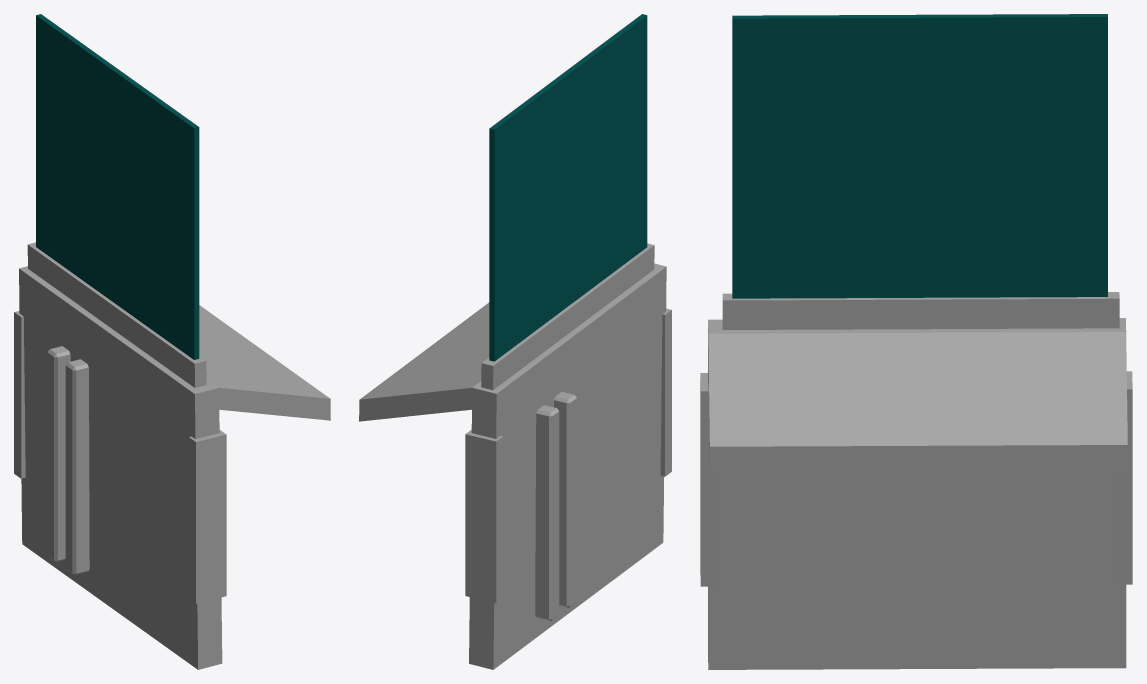
The model's file is side_terminal1.fbx.
3 views of the same model, side by side, from view 1: azimuth 30°, elevation 25°; view 2: azimuth 150°, elevation 25°; view 3: azimuth 270°, elevation 25° (orthographic). The views are drawn at different scales.
Parts seen in each view (by area): view 1: side_terminal; view 2: side_terminal; view 3: side_terminal.
Boxes of the visible parts, box(x1,y1,x2,y2) form: side_terminal: box(14, 14, 330, 669); side_terminal: box(359, 14, 671, 669); side_terminal: box(700, 14, 1132, 669).
Bounding box in the file's own units: 0.4995 × 1.66 × 1.01.
